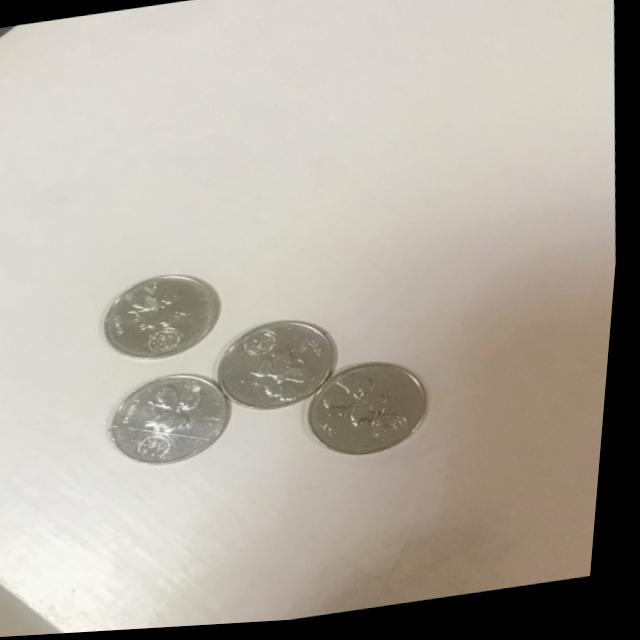25Cent_New_Back: (223, 324, 326, 410), (125, 387, 233, 466), (330, 381, 434, 454), (113, 290, 199, 357)
